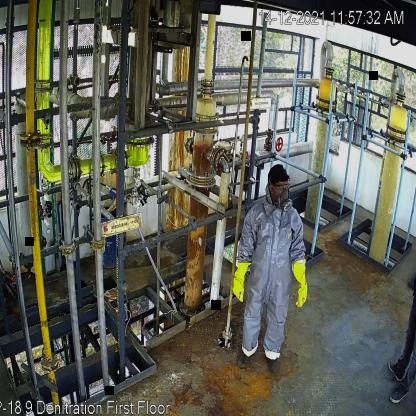goggles: (274, 181, 290, 191)
mask: (276, 189, 293, 213)
